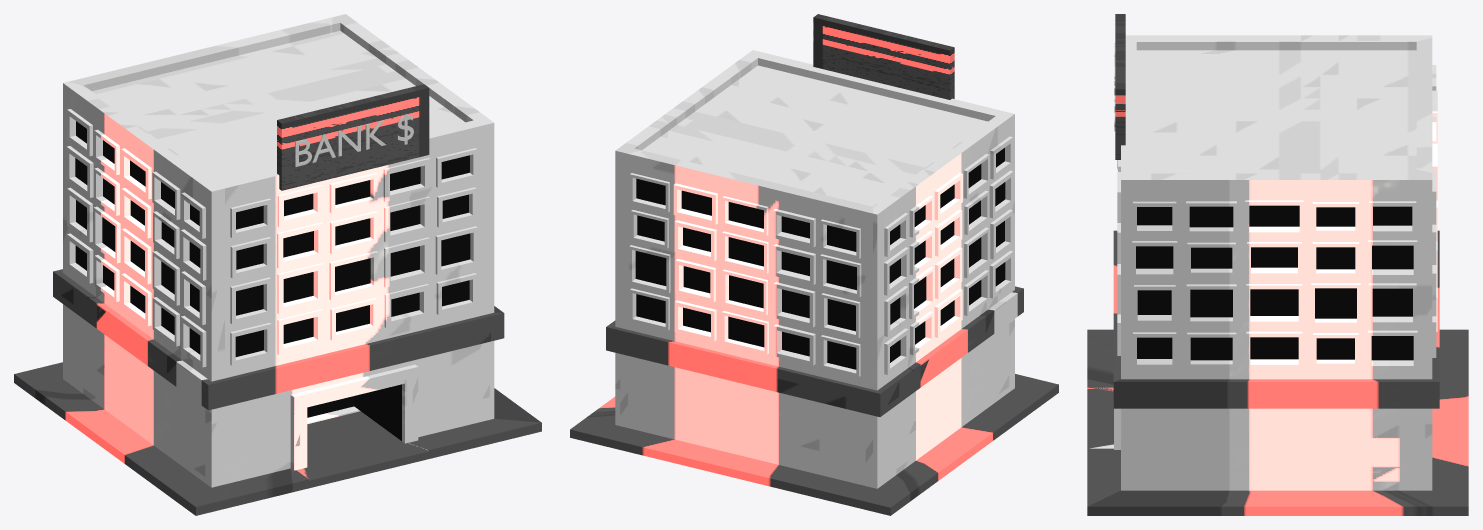
File: bank_minimalist_night.glb
The picture shows the model from 3 angles, left to right: view 1: azimuth 30°, elevation 25°; view 2: azimuth 150°, elevation 25°; view 3: azimuth 270°, elevation 25°; orthographic projection. The views are drawn at different scales.
Visible parts, largest first — view 1: bank_minimalist; view 2: bank_minimalist; view 3: bank_minimalist.
Boxes of the visible parts, x1,y1,x2,y2 form: bank_minimalist: (14, 14, 541, 515); bank_minimalist: (570, 14, 1058, 515); bank_minimalist: (1087, 14, 1468, 515).
Size of the model in its own units: 2.8 by 2.77 by 2.55.
4 materials, 1 textured.
